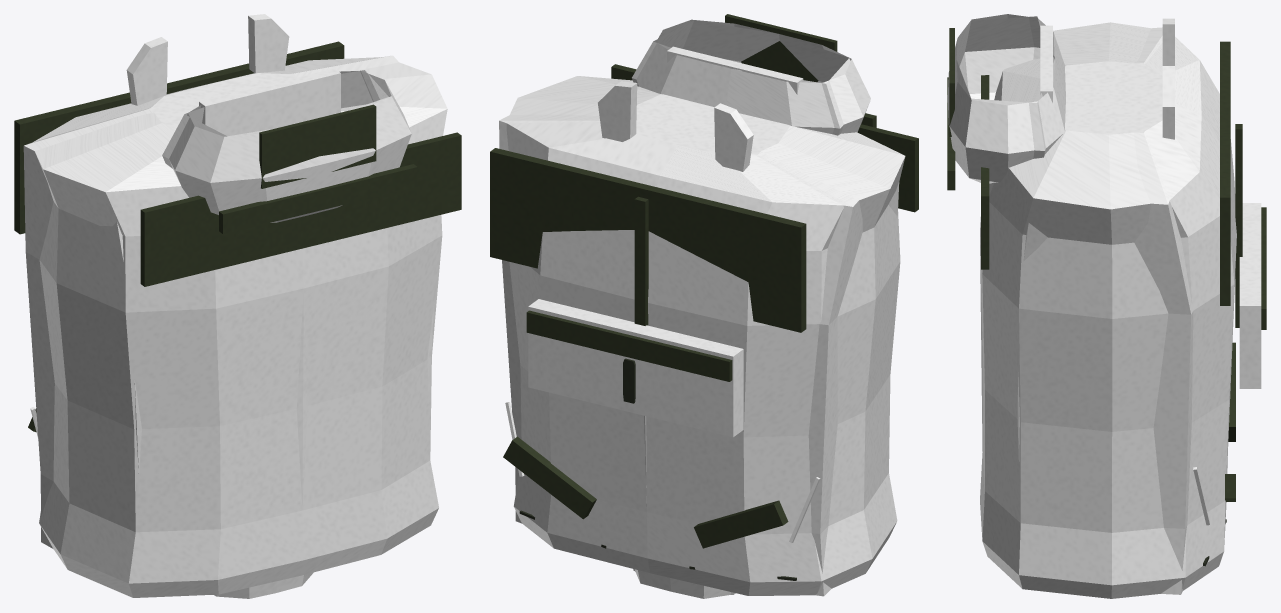
Rendered from jacket_gorka.glb.
The picture shows the model from 3 angles, left to right: view 1: azimuth 30°, elevation 25°; view 2: azimuth 150°, elevation 25°; view 3: azimuth 270°, elevation 25°; orthographic projection. The views are drawn at different scales.
Visible parts, largest first — view 1: jacket_gorka_torso_LOD0_RAID_cloth.001, jacket_gorka_torso_LOD0_RAID_reinforce.001, jacket_gorka_torso_LOD1_RAID_cloth.001, jacket_gorka_torso_LOD1_RAID_reinforce.001, jacket_gorka_upperL_LOD0_RAID_cloth.001; view 2: jacket_gorka_torso_LOD0_RAID_cloth.001, jacket_gorka_torso_LOD0_RAID_reinforce.001, jacket_gorka_torso_LOD1_RAID_cloth.001, jacket_gorka_torso_LOD1_RAID_reinforce.001, jacket_gorka_upperL_LOD0_RAID_cloth.001, jacket_gorka_torso_LOD0_RAID_seam.001; view 3: jacket_gorka_torso_LOD0_RAID_cloth.001, jacket_gorka_torso_LOD1_RAID_cloth.001, jacket_gorka_torso_LOD0_RAID_reinforce.001, jacket_gorka_torso_LOD1_RAID_reinforce.001.
Boxes of the visible parts, left/top/right/bottom form: jacket_gorka_torso_LOD0_RAID_cloth.001: left=30, top=14, right=447, bottom=597; jacket_gorka_torso_LOD0_RAID_reinforce.001: left=14, top=49, right=461, bottom=429; jacket_gorka_torso_LOD1_RAID_cloth.001: left=23, top=55, right=434, bottom=548; jacket_gorka_torso_LOD1_RAID_reinforce.001: left=14, top=41, right=461, bottom=431; jacket_gorka_upperL_LOD0_RAID_cloth.001: left=213, top=572, right=313, bottom=598; jacket_gorka_torso_LOD0_RAID_cloth.001: left=505, top=19, right=905, bottom=595; jacket_gorka_torso_LOD0_RAID_reinforce.001: left=490, top=16, right=918, bottom=545; jacket_gorka_torso_LOD1_RAID_cloth.001: left=499, top=20, right=899, bottom=596; jacket_gorka_torso_LOD1_RAID_reinforce.001: left=490, top=14, right=918, bottom=548; jacket_gorka_upperL_LOD0_RAID_cloth.001: left=635, top=569, right=730, bottom=598; jacket_gorka_torso_LOD0_RAID_seam.001: left=519, top=358, right=796, bottom=580; jacket_gorka_torso_LOD0_RAID_cloth.001: left=947, top=14, right=1261, bottom=598; jacket_gorka_torso_LOD1_RAID_cloth.001: left=956, top=16, right=1261, bottom=594; jacket_gorka_torso_LOD0_RAID_reinforce.001: left=947, top=33, right=1266, bottom=500; jacket_gorka_torso_LOD1_RAID_reinforce.001: left=947, top=28, right=1266, bottom=501.
Size of the model in its own units: 0.4925 by 0.6227 by 0.3555.
Materials: 3 (3 with a texture image).
